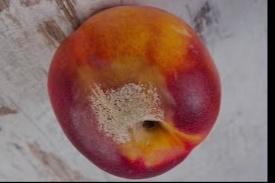rotten apple: (25, 3, 224, 178)
